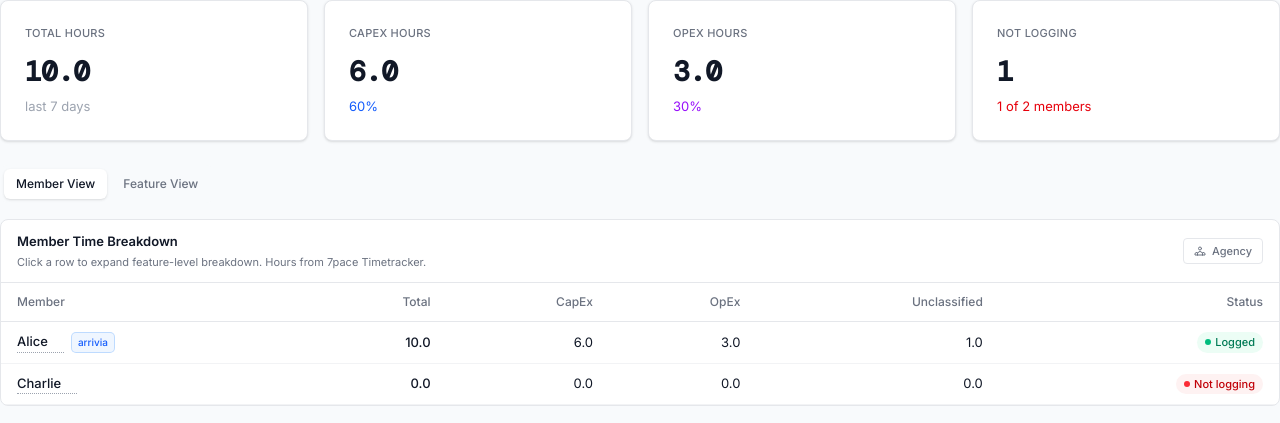
TimeTrackingTab — agency filter dropdown › hides unlabelled members when any filter is active
Expected: the heading "Member Time Breakdown" is shown, [17,233,178,249]
Click the button "Agency".
click(1223, 251)  # box [1183,238,1263,264]
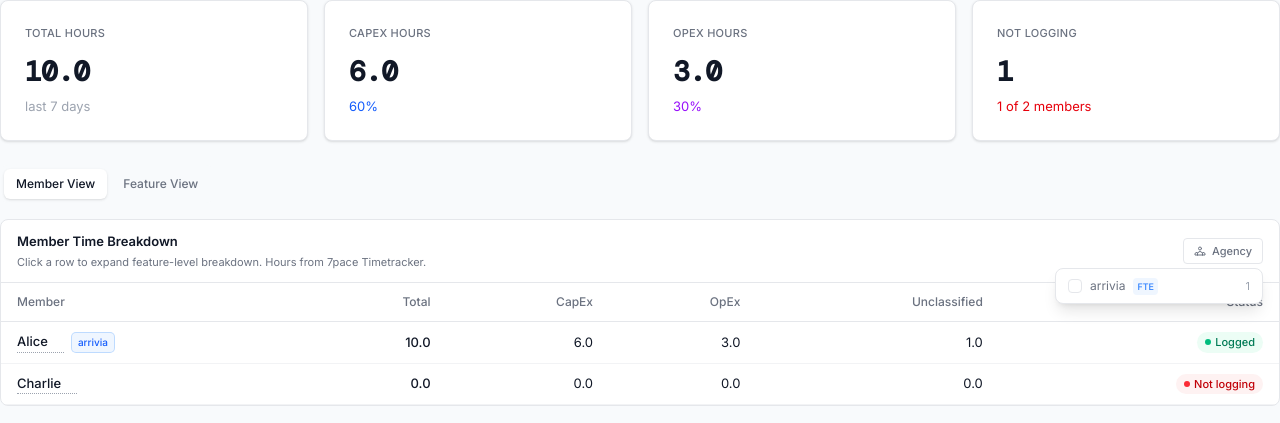
Click the menu item "arrivia FTE 1".
click(1159, 286)  # box [1056,269,1262,303]
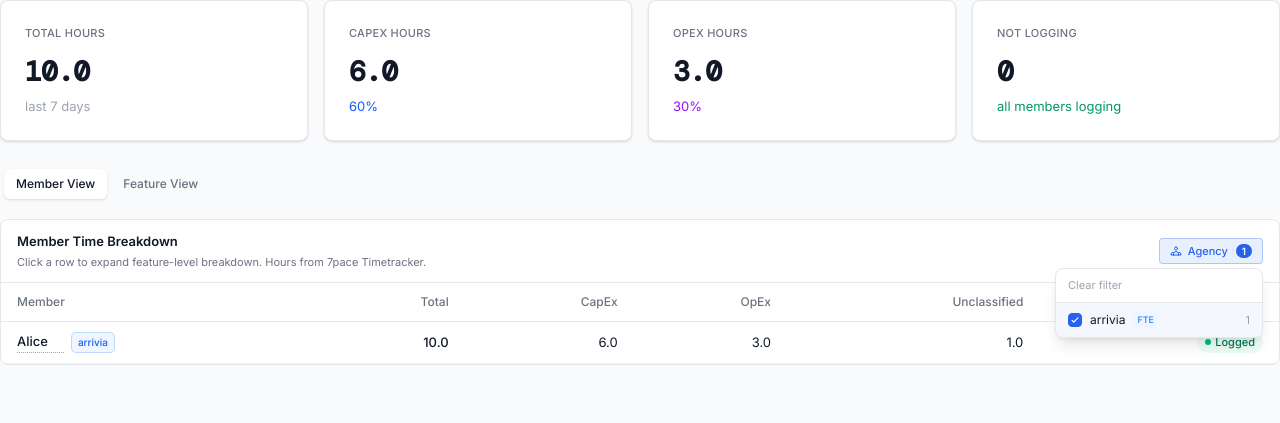
Result: the button "Charlie" is gone
